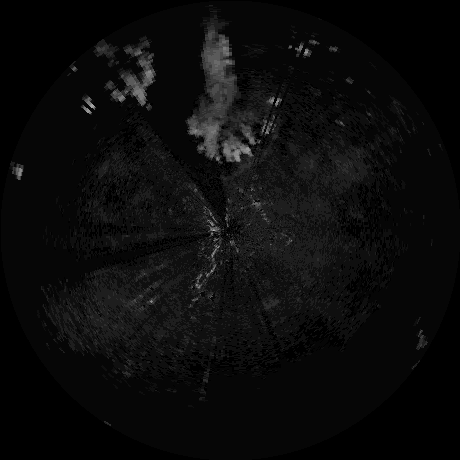frontgust: (198, 245, 221, 288)
